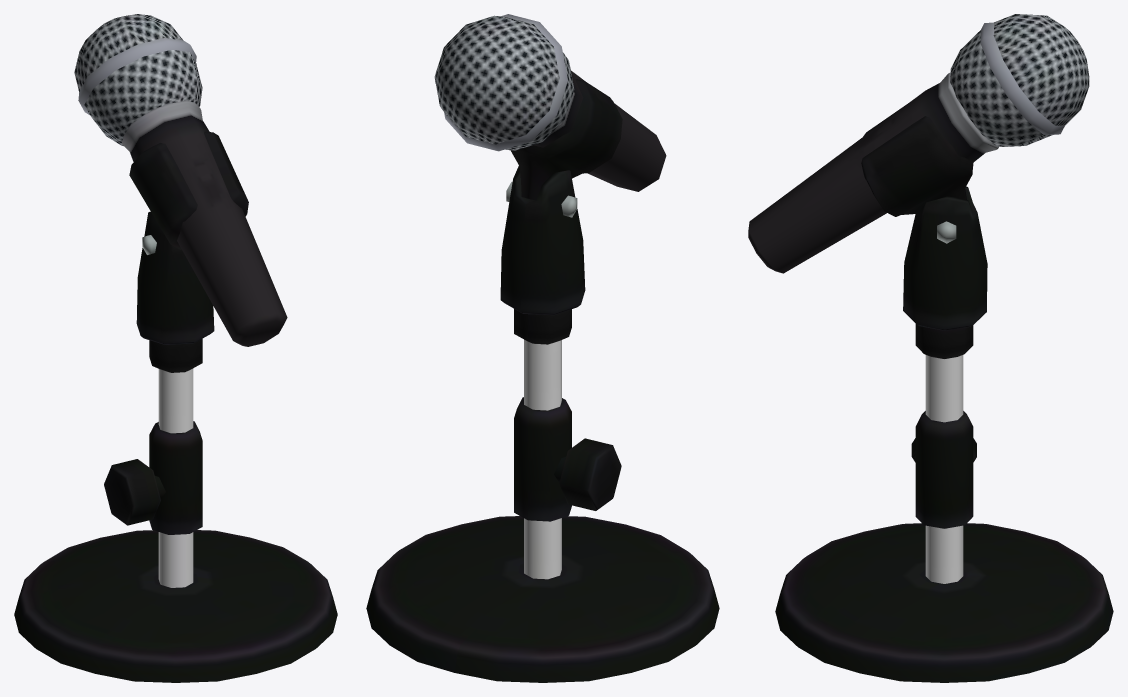
3 views of the same model, side by side, from view 1: azimuth 30°, elevation 25°; view 2: azimuth 150°, elevation 25°; view 3: azimuth 270°, elevation 25° (orthographic). The views are drawn at different scales.
Bounding box in the file's own units: 2.78 × 5.38 × 3.01.
Materials: 1 (1 with a texture image).
